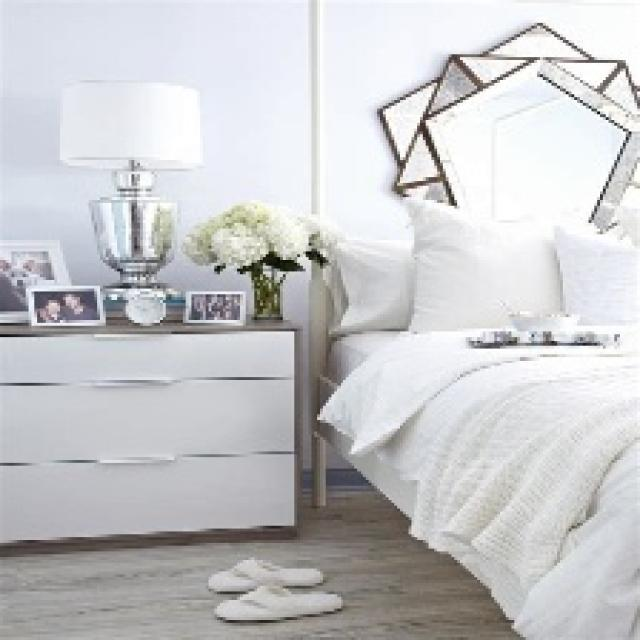Bed: (306, 14, 637, 637)
